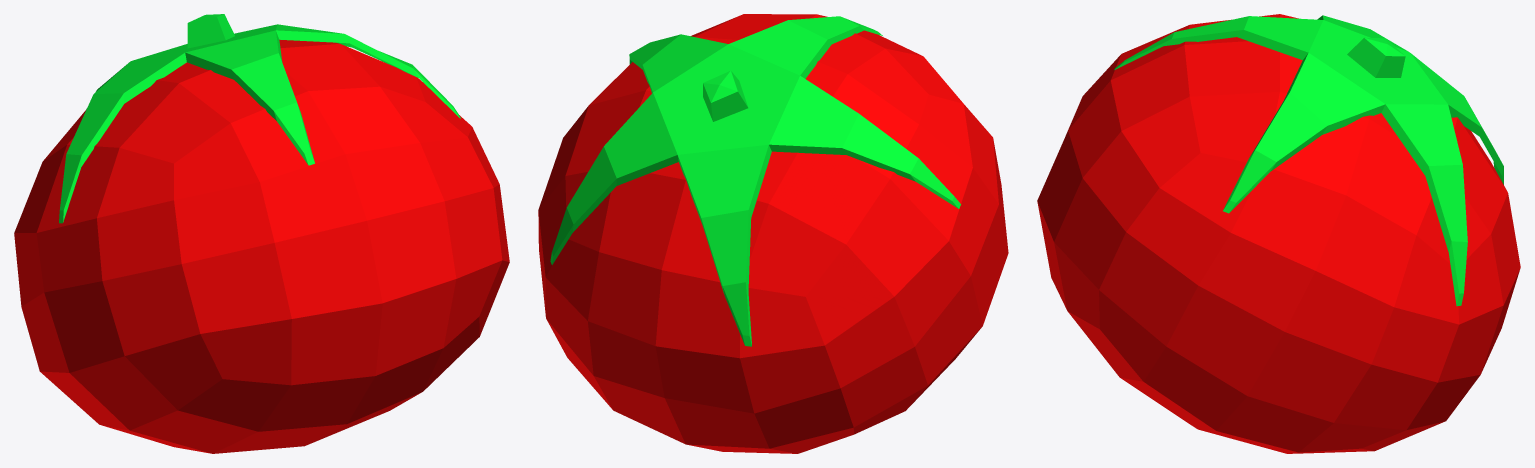
Rendered from Tomato 2.fbx.
3 renders of one model, left to right at view 1: azimuth 30°, elevation 25°; view 2: azimuth 150°, elevation 25°; view 3: azimuth 270°, elevation 25°, orthographic. The views are drawn at different scales.
Parts seen in each view (by area): view 1: Tomato 2.001; view 2: Tomato 2.001; view 3: Tomato 2.001.
Boxes of the visible parts, x1,y1,x2,y2 form: Tomato 2.001: [14, 14, 509, 453]; Tomato 2.001: [538, 14, 1008, 453]; Tomato 2.001: [1037, 14, 1520, 453].
Size of the model in its own units: 5.58 by 5.06 by 5.56.
